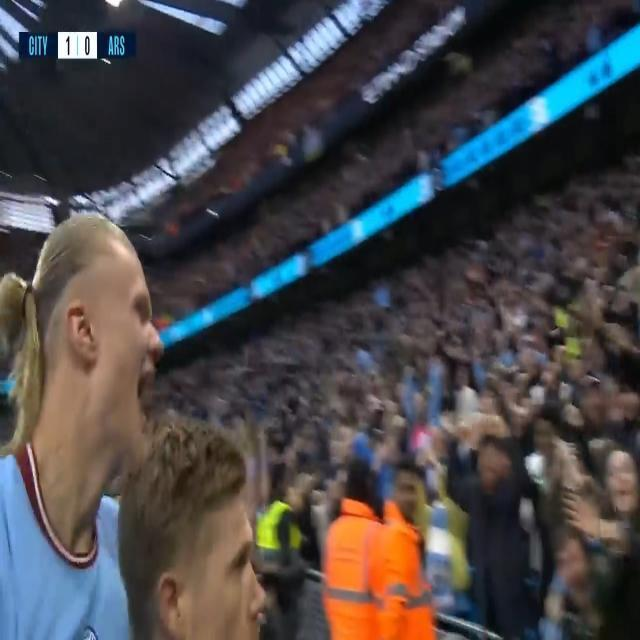player: (0, 146, 155, 640), (129, 407, 305, 640)
